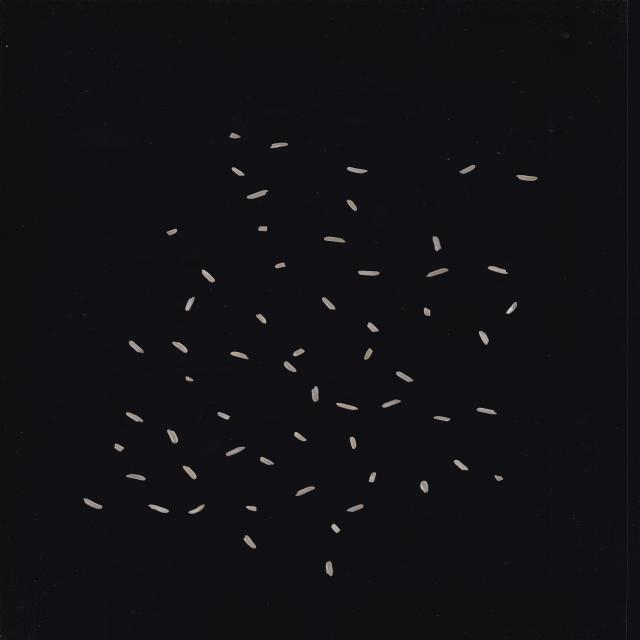Not: (294, 486, 316, 497), (128, 340, 145, 354), (225, 446, 246, 457), (246, 190, 269, 200), (395, 371, 414, 383), (182, 465, 197, 480), (148, 504, 170, 514), (82, 498, 102, 509), (425, 268, 449, 277), (242, 535, 257, 549), (201, 269, 215, 283), (166, 429, 179, 444), (172, 341, 188, 353), (453, 459, 469, 471), (125, 412, 144, 422), (187, 504, 206, 514), (381, 399, 402, 408), (322, 297, 336, 310), (346, 166, 368, 174), (476, 407, 498, 415), (336, 402, 358, 410), (478, 330, 489, 346), (487, 266, 509, 274), (230, 351, 249, 360), (459, 164, 476, 174), (283, 361, 297, 373), (125, 473, 146, 481), (506, 301, 518, 315), (346, 503, 364, 512), (185, 296, 195, 312), (259, 456, 275, 466), (324, 560, 334, 576), (432, 236, 442, 252), (366, 321, 379, 333), (324, 236, 346, 243), (293, 431, 307, 442), (346, 200, 358, 212), (357, 270, 380, 276), (270, 142, 289, 149), (255, 313, 267, 324), (516, 175, 538, 181), (311, 386, 319, 402), (231, 167, 245, 176), (292, 348, 306, 357), (433, 415, 451, 422), (330, 523, 341, 534), (216, 412, 231, 420), (420, 481, 429, 494), (349, 436, 357, 450), (364, 348, 373, 360), (165, 228, 178, 236), (114, 443, 125, 452), (228, 132, 242, 139), (368, 472, 377, 482), (274, 262, 286, 269), (245, 505, 257, 512), (494, 474, 504, 482), (423, 307, 431, 317), (258, 226, 268, 232), (184, 376, 194, 382)
